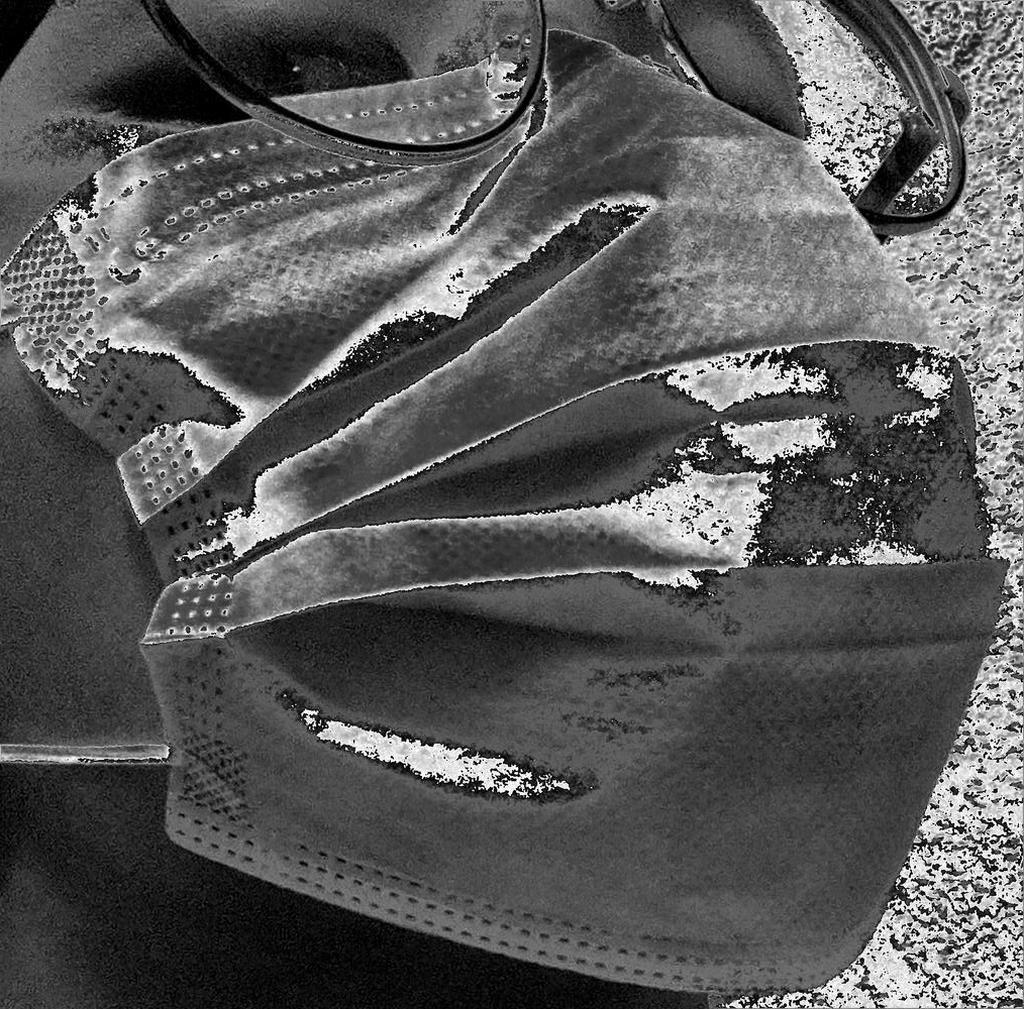Low GSM: (9, 20, 1012, 1000)
